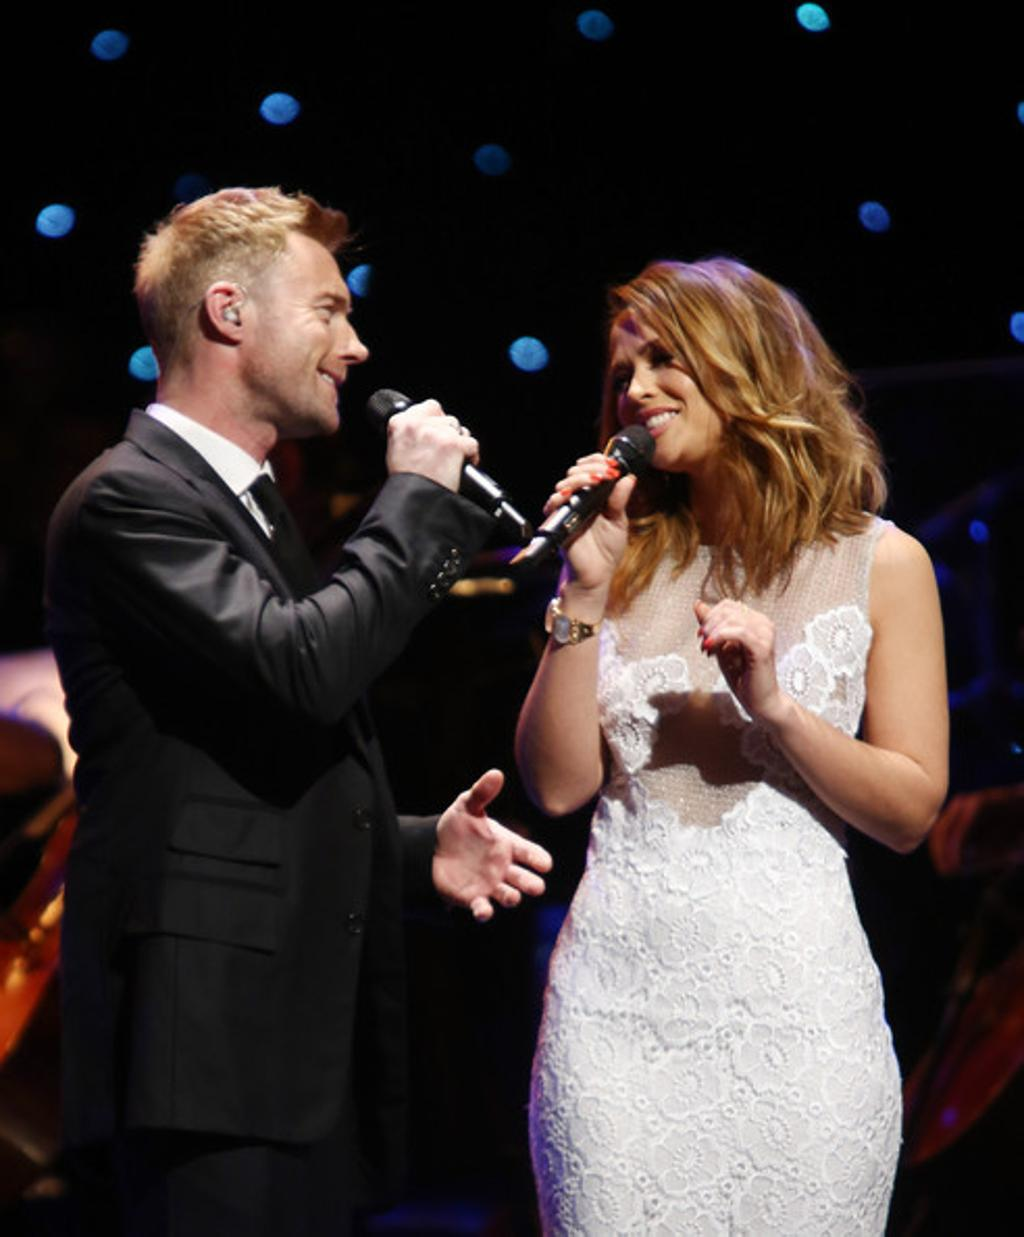face: (246, 198, 362, 432), (606, 304, 741, 466)
